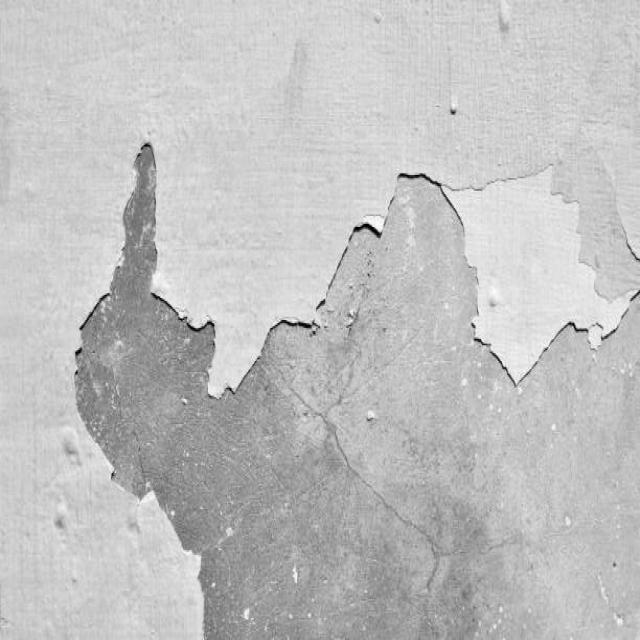peeling paint: (67, 131, 640, 640)
